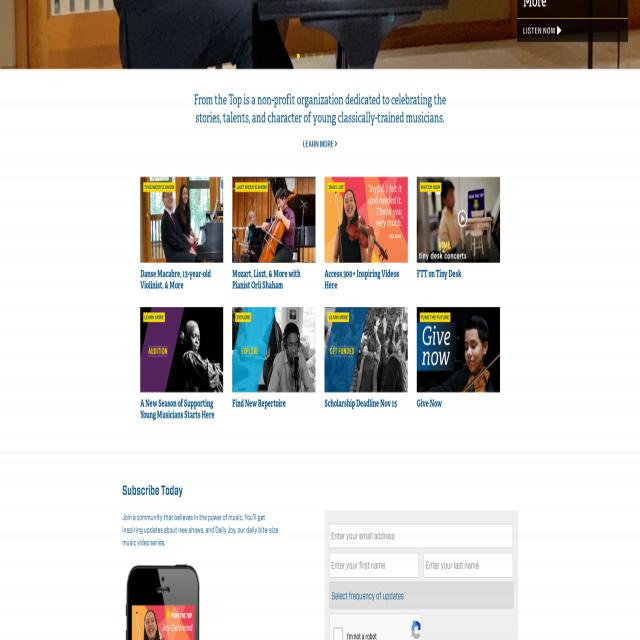button: (117, 555, 208, 640), (140, 177, 224, 262), (232, 177, 316, 262), (324, 177, 408, 262), (140, 307, 224, 392), (232, 307, 316, 392), (324, 307, 408, 392), (417, 177, 500, 262), (417, 307, 500, 392), (517, 20, 628, 43), (319, 52, 324, 60), (296, 52, 300, 61), (304, 53, 309, 60), (312, 52, 316, 60)
field: (330, 582, 514, 609), (329, 524, 513, 548), (329, 552, 419, 578), (424, 552, 513, 578), (334, 628, 343, 640)
